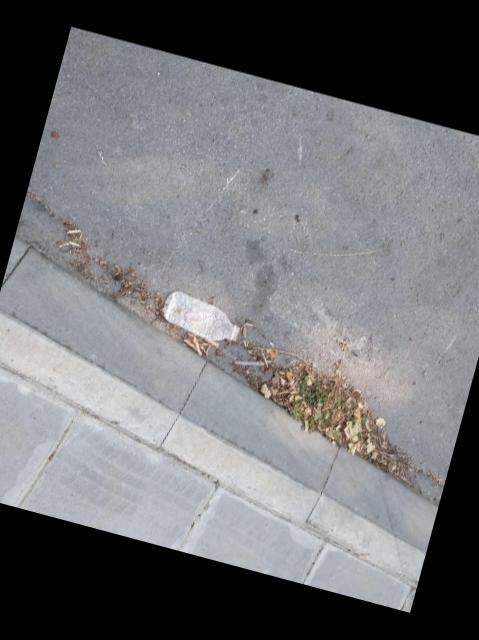plastic: (162, 291, 238, 340)
